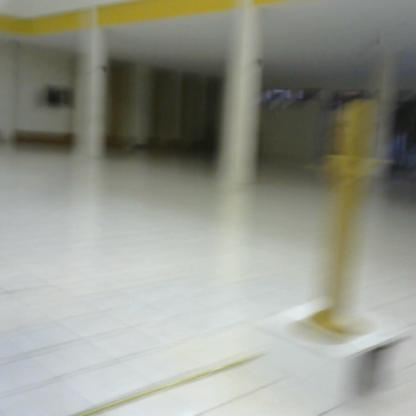pole: (309, 93, 392, 353)
